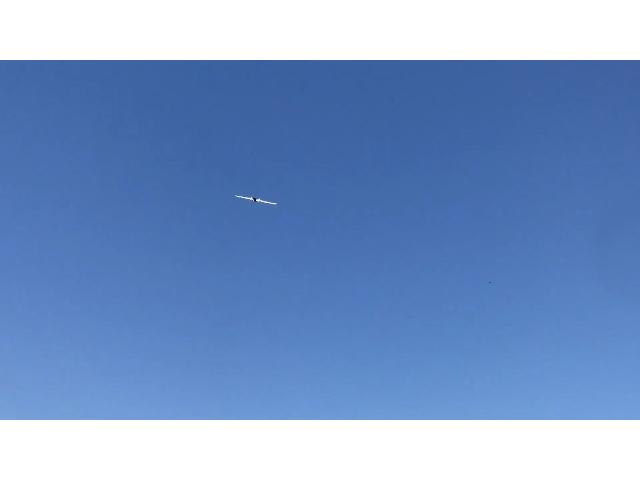Anti-Drone: (202, 175, 284, 217)
